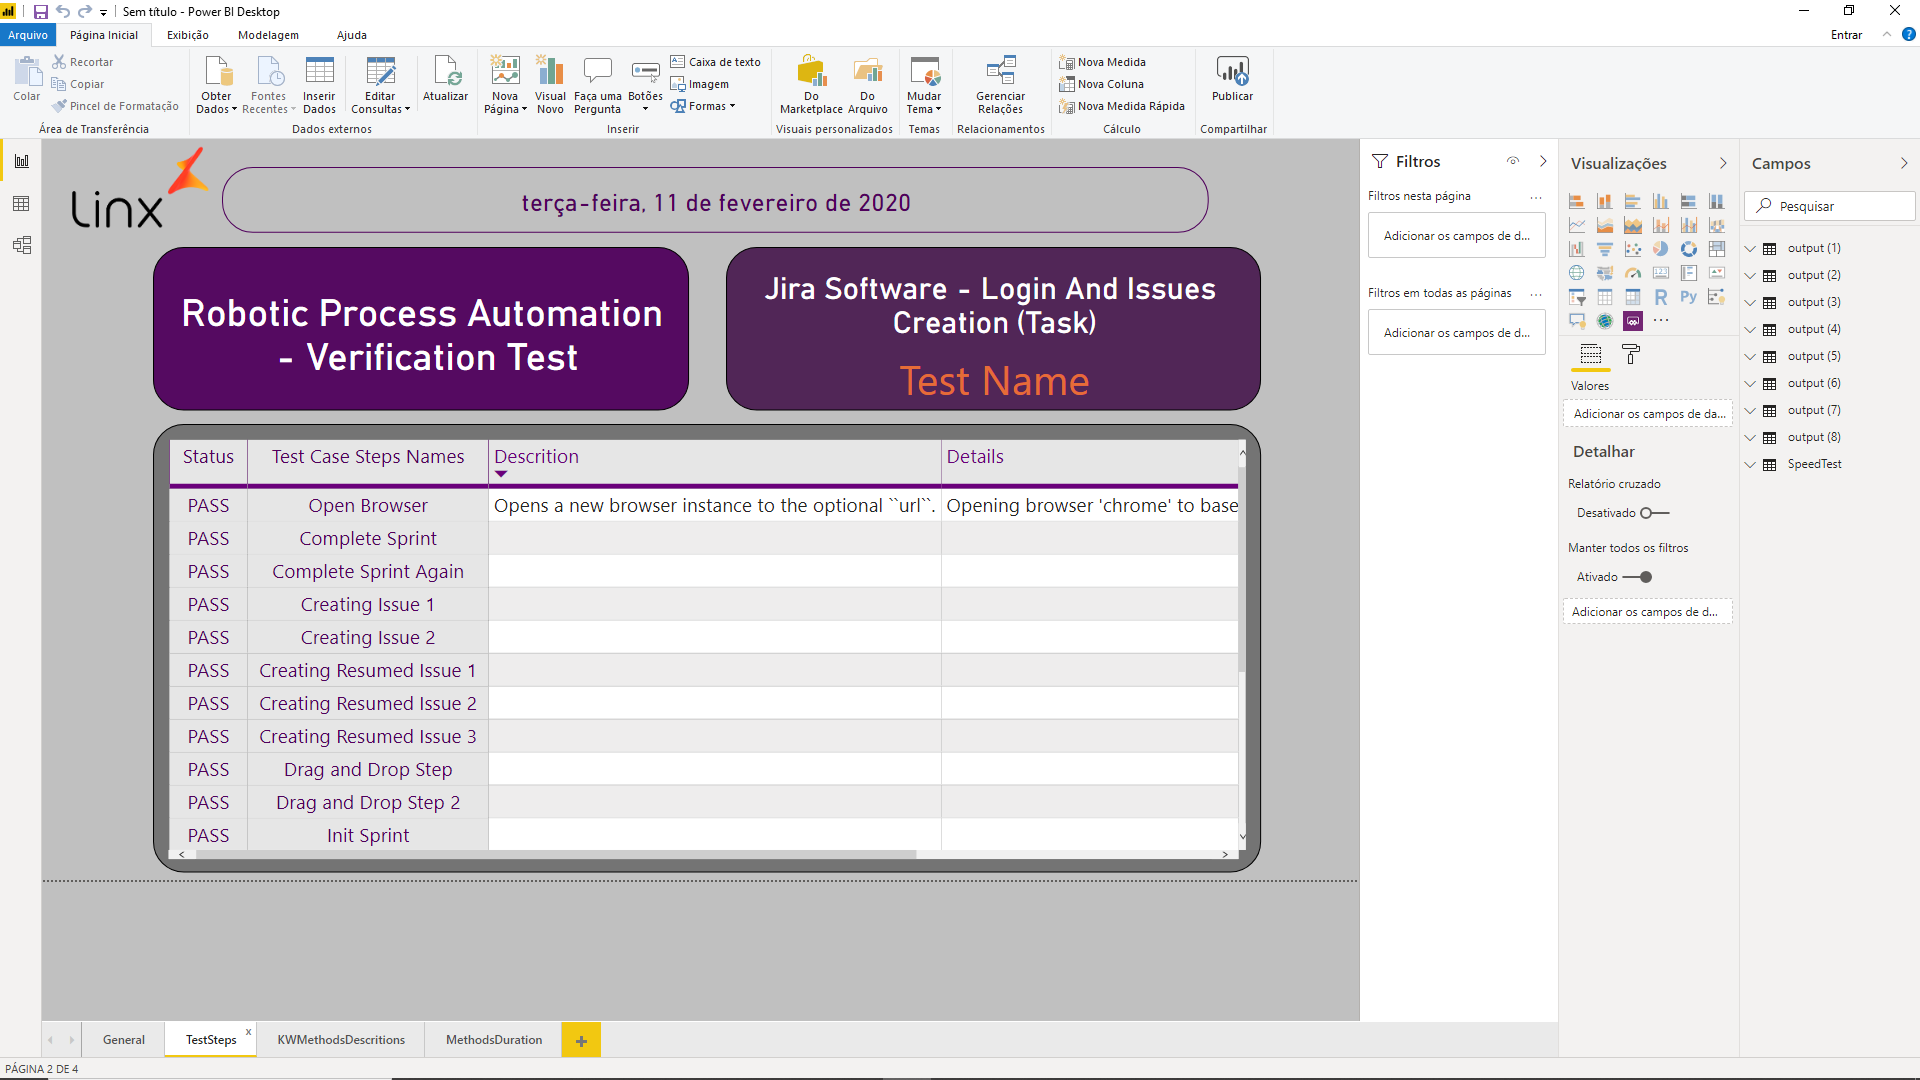

The page's visual inventory and layout, read from the dashboard file:
{"tool":"powerbi","page":{"name":"TestSteps","canvas":[1280,720],"ordinal":1},"visuals":[{"type":"card","fields":{"Values":["Min(output (2).doc)"]},"box":[107.9,105,520.9,159.4],"z":0},{"type":"card","fields":{"Values":["Min(output (3).Attribute:name)"]},"box":[664.8,105,520,159.4],"z":1000},{"type":"image","box":[19.3,0,155.8,90.9],"z":2000},{"type":"tableEx","fields":{"Values":["output (8).status.Attribute:status","output (8).Attribute:name","output (8).doc","output (8).msg.Element:Text"]},"box":[107.9,277,1076.9,436.4],"z":3000},{"type":"card","fields":{"Values":["Min(output (6).Data)"]},"box":[175,27,959.3,64.1],"z":4000}]}

Visuals, with their boxes on the page's 1280x720 design canvas (x1, y1, x2, y2). These are canvas units, not pixel positions in the 1920x1080 screenshot, which may show the page scaled, cropped or inside an application window:
card - Min(output (2).doc): (108,105,629,264)
card - Min(output (3).Attribute:name): (665,105,1185,264)
image: (19,0,175,91)
tableEx - output (8).status.Attribute:status x output (8).Attribute:name: (108,277,1185,713)
card - Min(output (6).Data): (175,27,1134,91)
